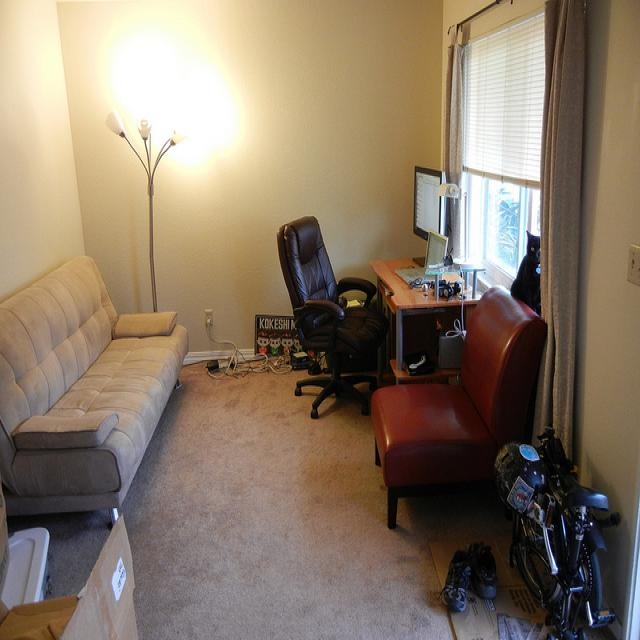motor: (495, 424, 606, 632)
